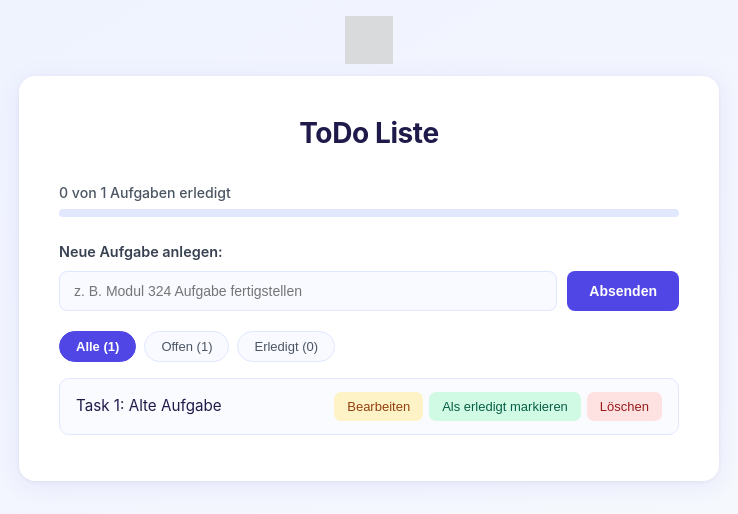
it: App › bearbeitet eine bestehende Aufgabe per PUT und lädt die aktualisierte Liste neu
Check: the text "Task 1: Alte Aufgabe" is shown, box left=76, top=396, right=222, bottom=415
Click the button "Bearbeiten": [379, 406] box left=334, top=392, right=423, bottom=421
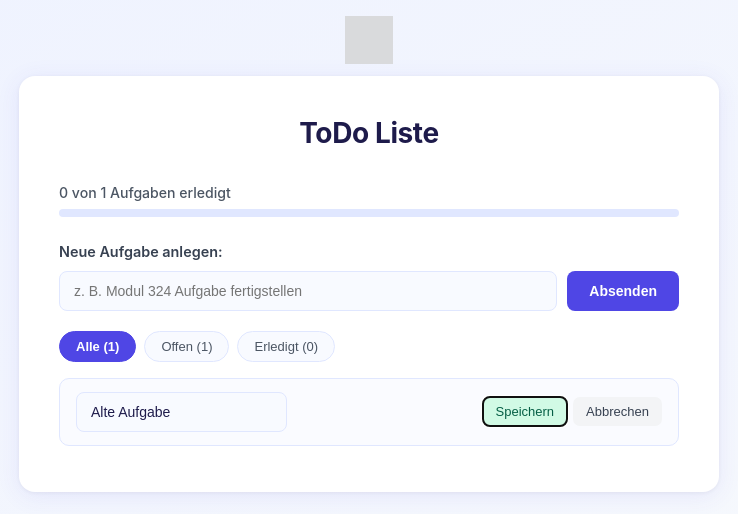
Replace the text in the field showing "Alte Aufgabe" with "Aktualisierte Aufgabe": [182, 412] box left=76, top=392, right=287, bottom=432
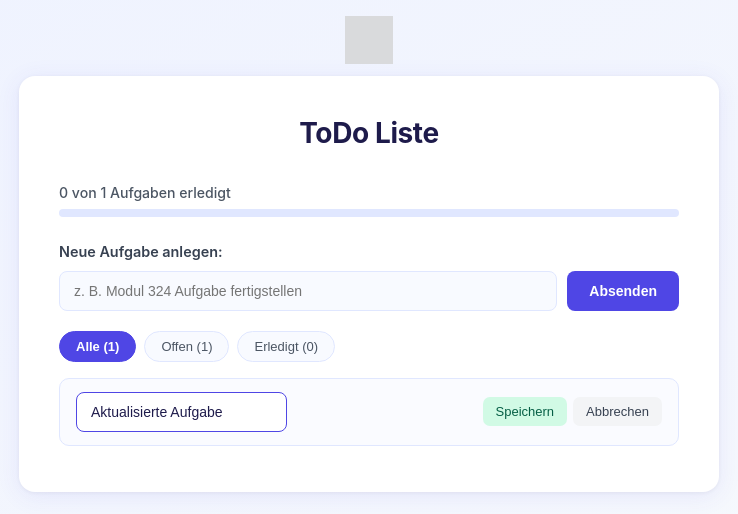
Click the button "Speichern": [525, 412] box left=483, top=397, right=567, bottom=426
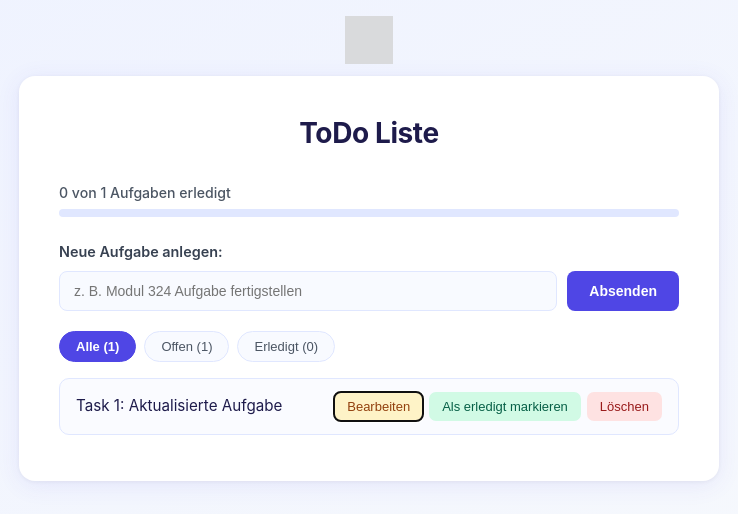
Check: the text "Task 1: Aktualisierte Aufgabe" is shown, box left=76, top=396, right=282, bottom=415
